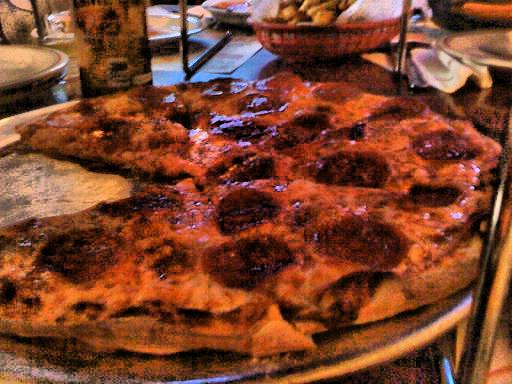pizza: (2, 88, 487, 340)
